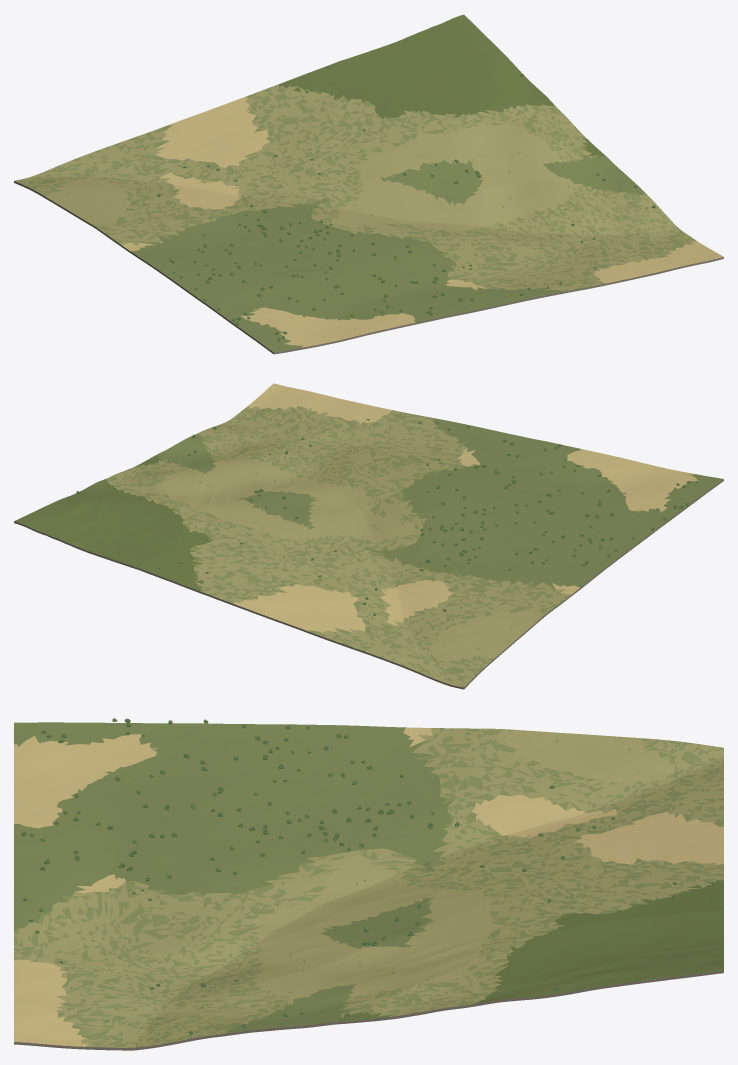
The model's file is parca_+4_-1-yakin.glb.
The picture shows the model from 3 angles, top to bottom: view 1: azimuth 30°, elevation 25°; view 2: azimuth 150°, elevation 25°; view 3: azimuth 270°, elevation 25°; orthographic projection. The views are drawn at different scales.
Parts seen in each view (by area): view 1: parca_+4_-1_arazi, parca_+4_-1_bitkiler; view 2: parca_+4_-1_arazi, parca_+4_-1_bitkiler; view 3: parca_+4_-1_arazi, parca_+4_-1_bitkiler.
Boxes of the visible parts, bbox=[...] form: parca_+4_-1_arazi: bbox=[14, 14, 723, 354]; parca_+4_-1_bitkiler: bbox=[68, 67, 656, 341]; parca_+4_-1_arazi: bbox=[14, 383, 723, 689]; parca_+4_-1_bitkiler: bbox=[76, 417, 698, 650]; parca_+4_-1_arazi: bbox=[14, 722, 723, 1050]; parca_+4_-1_bitkiler: bbox=[21, 718, 714, 1034].
Bounding box in the file's own units: 1004 × 125 × 1000.
